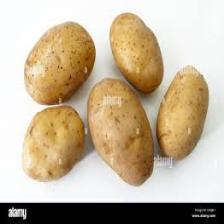Potato: (85, 75, 154, 188), (21, 21, 98, 108), (152, 64, 212, 164), (20, 105, 86, 187), (107, 11, 166, 93)
